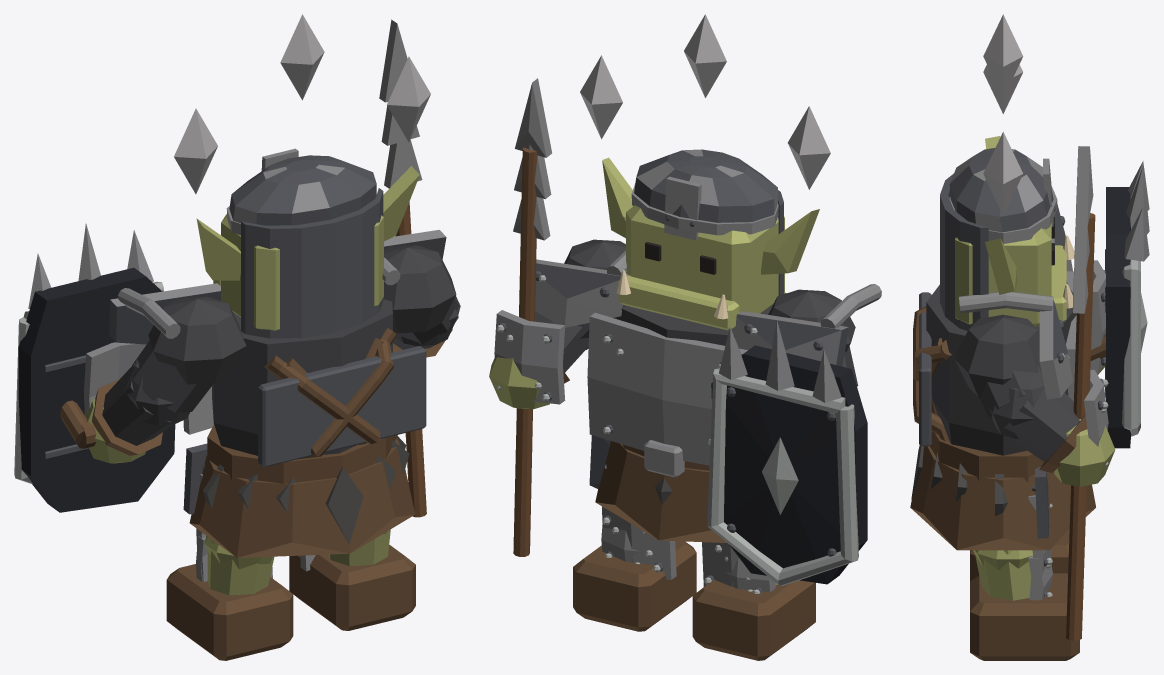
Rendered from host_14.glb.
3 views of the same model, side by side, from view 1: azimuth 30°, elevation 25°; view 2: azimuth 150°, elevation 25°; view 3: azimuth 270°, elevation 25° (orthographic). The views are drawn at different scales.
Visible parts, largest first — view 1: V6 source black mirror actual shield body, Leather ragged skirt, V6 source actual curved fitted steel rear helmet neck guard, V6 source contacting small rear armor plate, Tailored continuous bodice, Grounded boot L, V6 source fitted rounded metal cap helmet shell, Grounded boot R, Connected shoulder L, Connected shoulder R, Continuous leather waist belt, V6 source actual visible fitted brown crossed rear carrying  (×2) (+28 smaller); view 2: V6 source black mirror actual shield body, V6 source curved fitted breastplate, Observed face, V6 detail mirror shield continuous contacting iron perimeter, Grounded boot L, Grounded boot R, Leather ragged skirt, V6 source fitted rounded metal cap helmet shell, V6 source continuous held spear shaft, V6 source angled fitted shoulder plate R, V6 source wrapped wrist armor R, V6 source angled fitted shoulder plate L (+27 smaller); view 3: Leather ragged skirt, Grounded boot R, Tailored continuous bodice, V6 source black mirror actual shield body, V6 source fitted rounded metal cap helmet shell, Connected shoulder R, V6 source continuous held spear shaft, Observed face, V6 source actual curved fitted steel rear helmet neck guard, Forearm R, Continuous leather waist belt, V6 detail mirror shield continuous contacting iron perimeter (+30 smaller).
Boxes of the visible parts, box(x1,y1,x2,y2) form: V6 source black mirror actual shield body: box(18, 267, 175, 512); Leather ragged skirt: box(189, 438, 415, 557); V6 source actual curved fitted steel rear helmet neck guard: box(241, 188, 383, 338); V6 source contacting small rear armor plate: box(258, 346, 426, 466); Tailored continuous bodice: box(212, 299, 392, 455); Grounded boot L: box(166, 564, 293, 660); V6 source fitted rounded metal cap helmet shell: box(229, 155, 376, 225); Grounded boot R: box(289, 545, 415, 630); Connected shoulder L: box(148, 296, 246, 384); Connected shoulder R: box(383, 245, 456, 333); Continuous leather waist belt: box(207, 424, 397, 484); V6 source actual visible fitted brown crossed rear carrying  (×2): box(264, 328, 396, 459); V6 source black mirror actual shield body: box(711, 345, 867, 584); V6 source curved fitted breastplate: box(587, 313, 747, 465); Observed face: box(626, 205, 784, 313); V6 detail mirror shield continuous contacting iron perimeter: box(707, 368, 858, 585); Grounded boot L: box(692, 580, 815, 660); Grounded boot R: box(573, 541, 696, 631); Leather ragged skirt: box(595, 441, 726, 542); V6 source fitted rounded metal cap helmet shell: box(634, 149, 777, 222); V6 source continuous held spear shaft: box(513, 147, 537, 556); V6 source angled fitted shoulder plate R: box(535, 259, 628, 327); V6 source wrapped wrist armor R: box(494, 310, 565, 404); V6 source angled fitted shoulder plate L: box(732, 311, 848, 366); Leather ragged skirt: box(910, 446, 1095, 550); Grounded boot R: box(970, 573, 1079, 660); Tailored continuous bodice: box(926, 284, 1076, 455); V6 source black mirror actual shield body: box(1106, 187, 1131, 448); V6 source fitted rounded metal cap helmet shell: box(949, 148, 1053, 232); Connected shoulder R: box(954, 314, 1040, 397); V6 source continuous held spear shaft: box(1066, 213, 1095, 640); Observed face: box(955, 223, 1051, 326); V6 source actual curved fitted steel rear helmet neck guard: box(940, 173, 988, 330); Forearm R: box(1004, 389, 1079, 461); Continuous leather waist belt: box(930, 432, 1043, 481); V6 detail mirror shield continuous contacting iron perimeter: box(1122, 260, 1140, 436).
Bounding box in the file's own units: 1.36 × 1.99 × 0.7168.
